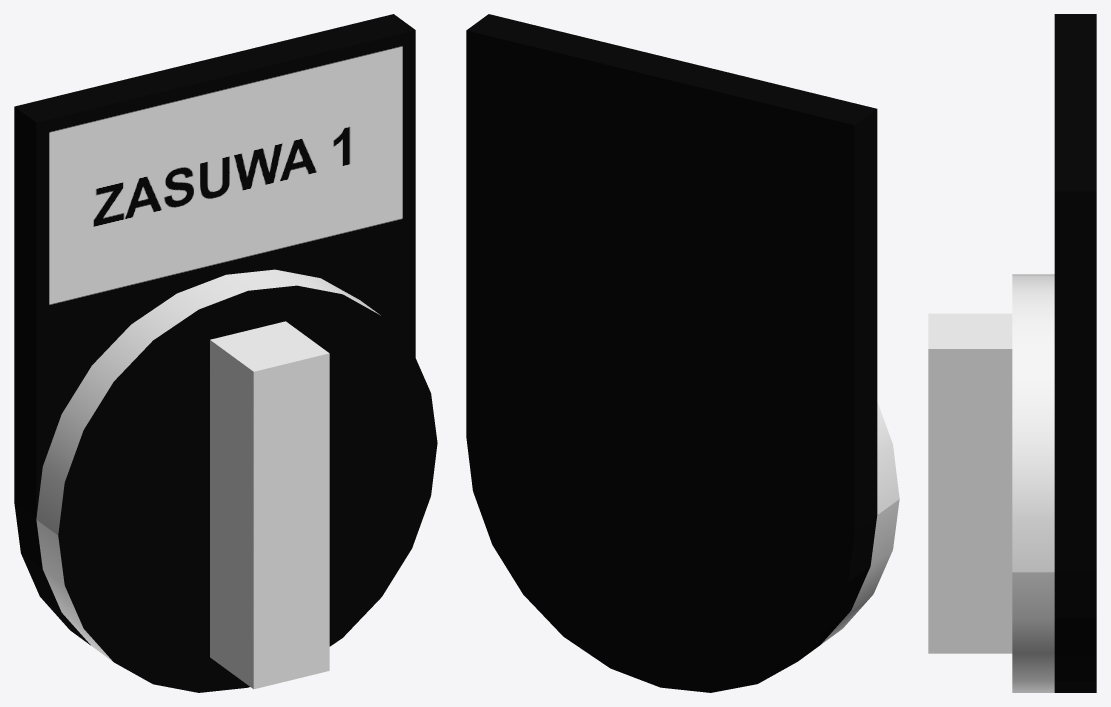
The model's file is Switcher-zasuwa1.fbx.
3 renders of one model, left to right at view 1: azimuth 30°, elevation 25°; view 2: azimuth 150°, elevation 25°; view 3: azimuth 270°, elevation 25°, orthographic. The views are drawn at different scales.
Visible parts, largest first — view 1: Model; view 2: Model; view 3: Model.
Boxes of the visible parts, <box> form: Model: <box>14,14,437,692</box>; Model: <box>466,14,899,692</box>; Model: <box>928,14,1096,692</box>.
Bounding box in the file's own units: 0.1 × 0.15 × 0.04.
